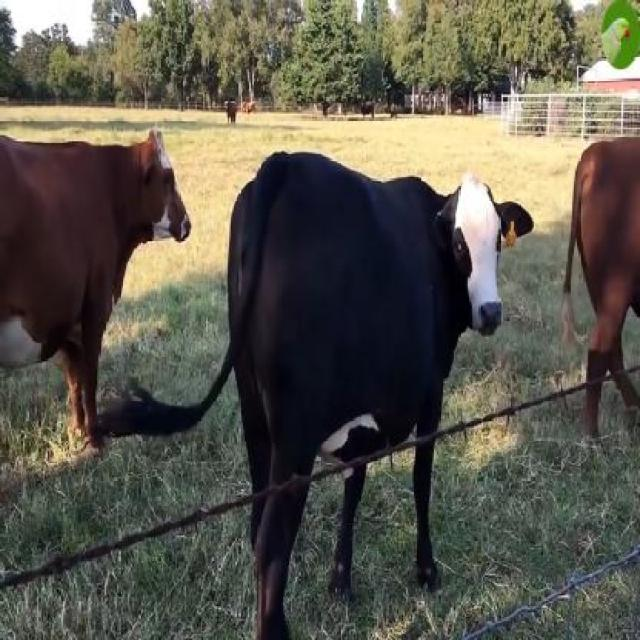Cow: (228, 151, 532, 638), (0, 129, 192, 455)
